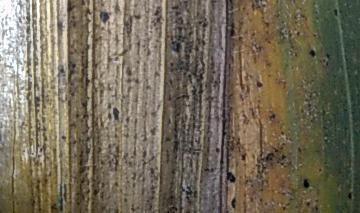tarspot: (111, 106, 122, 120), (225, 171, 237, 183), (99, 11, 110, 24), (172, 39, 182, 53), (228, 21, 235, 39), (301, 178, 311, 190), (303, 199, 312, 208), (307, 48, 315, 58), (230, 197, 236, 210), (332, 5, 338, 18), (255, 80, 264, 88), (323, 52, 332, 60), (347, 191, 354, 200), (239, 153, 246, 161), (214, 147, 220, 154)
